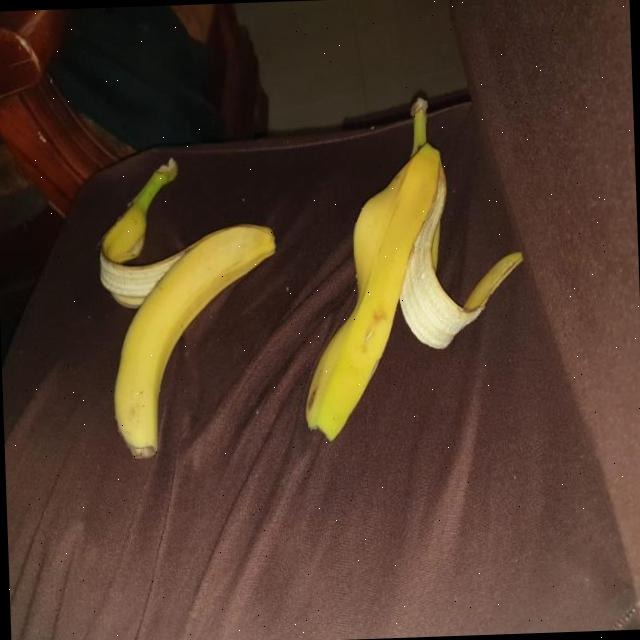banana-peel: (290, 89, 528, 443), (105, 218, 282, 460)
